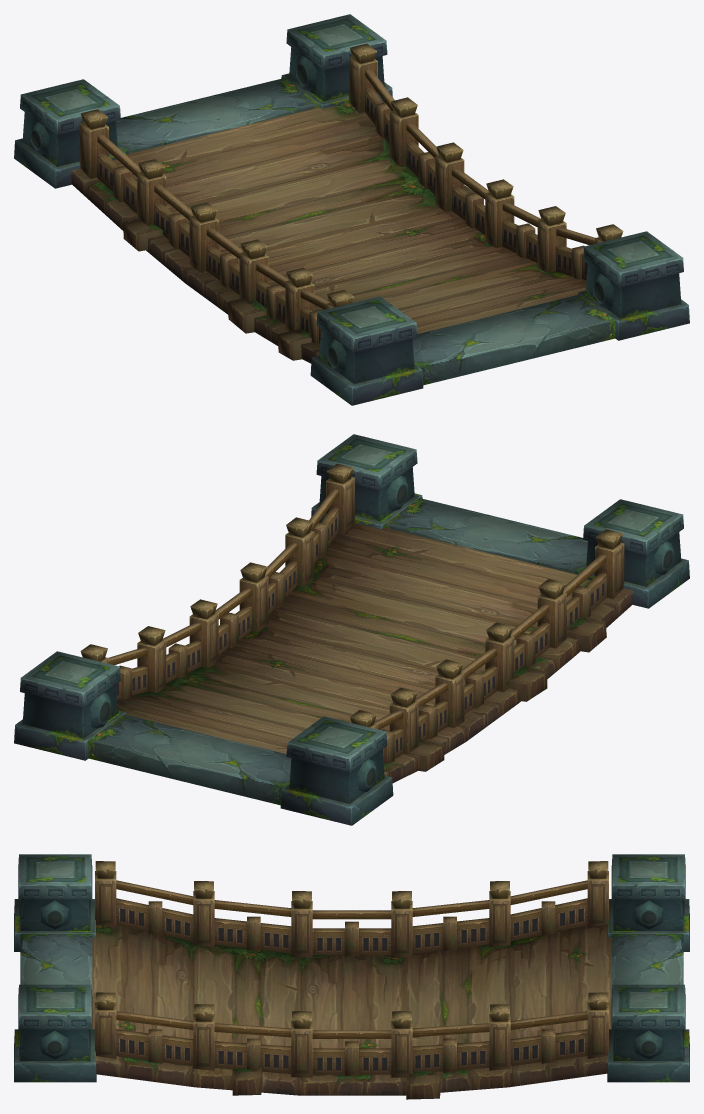
Rendered from fb_plxd_zj_08_a.FBX.
3 views of the same model, one above another, from view 1: azimuth 30°, elevation 25°; view 2: azimuth 150°, elevation 25°; view 3: azimuth 270°, elevation 25° (orthographic).
Parts seen in each view (by area): view 1: fb_plxd_zj_08; view 2: fb_plxd_zj_08; view 3: fb_plxd_zj_08.
Part boxes in pixels (x1,y1,x2,y2): fb_plxd_zj_08: (14, 14, 689, 405); fb_plxd_zj_08: (14, 434, 689, 825); fb_plxd_zj_08: (14, 854, 689, 1099).
Size of the model in its own units: 785 by 213 by 1359.
